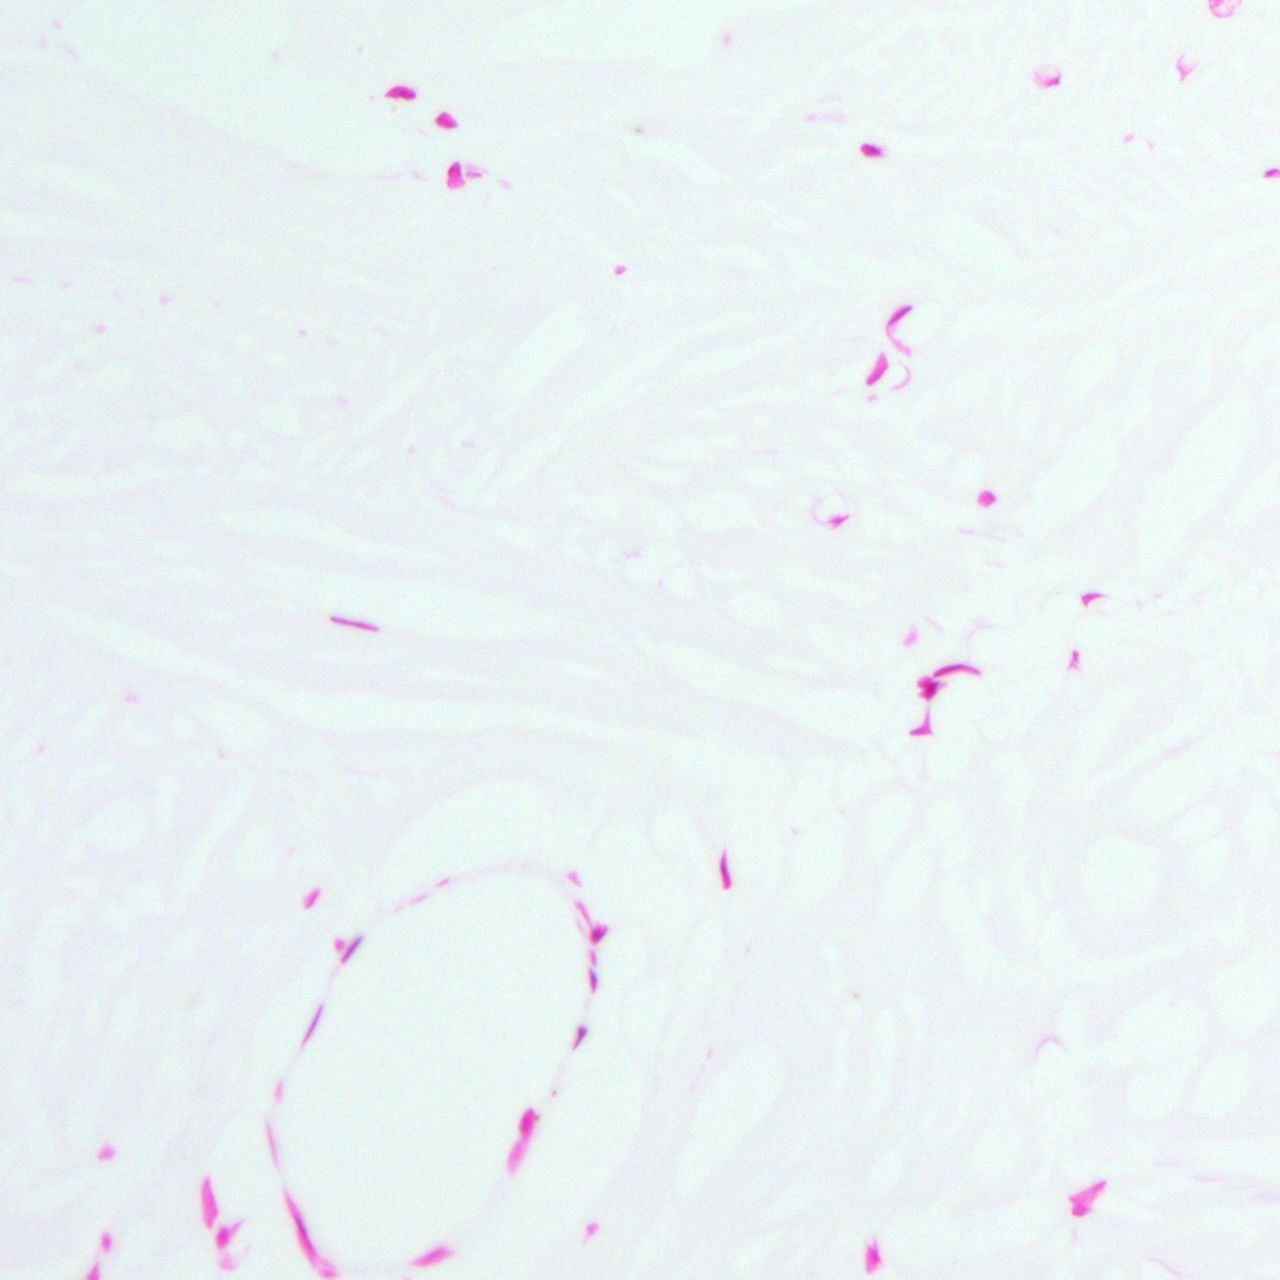nucleus-FG: (327, 613, 380, 633), (338, 933, 363, 964), (918, 676, 940, 698), (860, 144, 882, 157), (588, 967, 598, 991)
